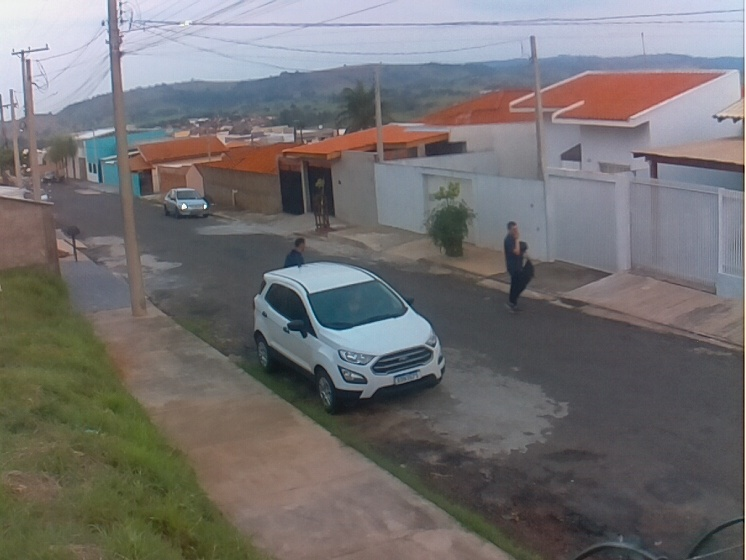person: (501, 218, 534, 315), (281, 235, 311, 270)
